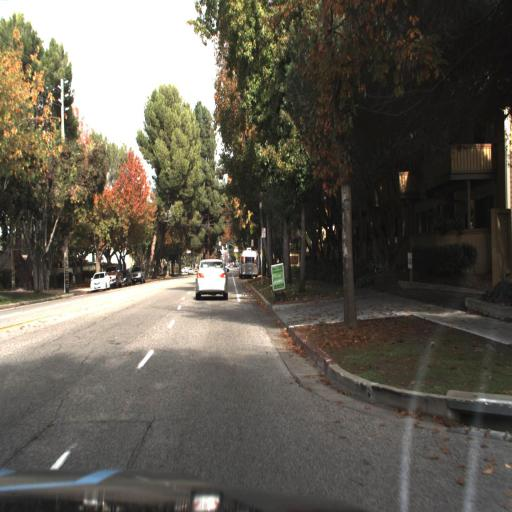car: (187, 250, 234, 312), (87, 268, 111, 294), (107, 262, 125, 291), (130, 263, 148, 287)
truck: (236, 241, 264, 292)
